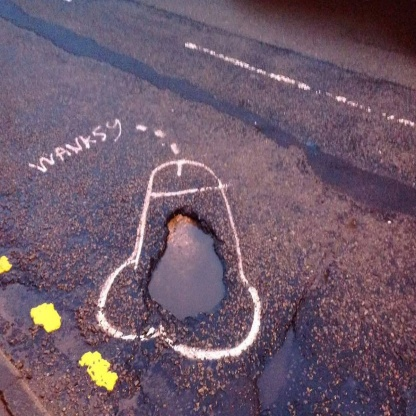pothole: (148, 199, 235, 332)
